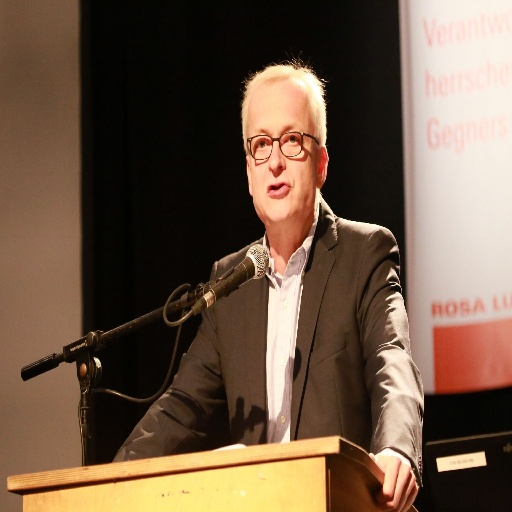hand: (378, 442, 422, 503)
